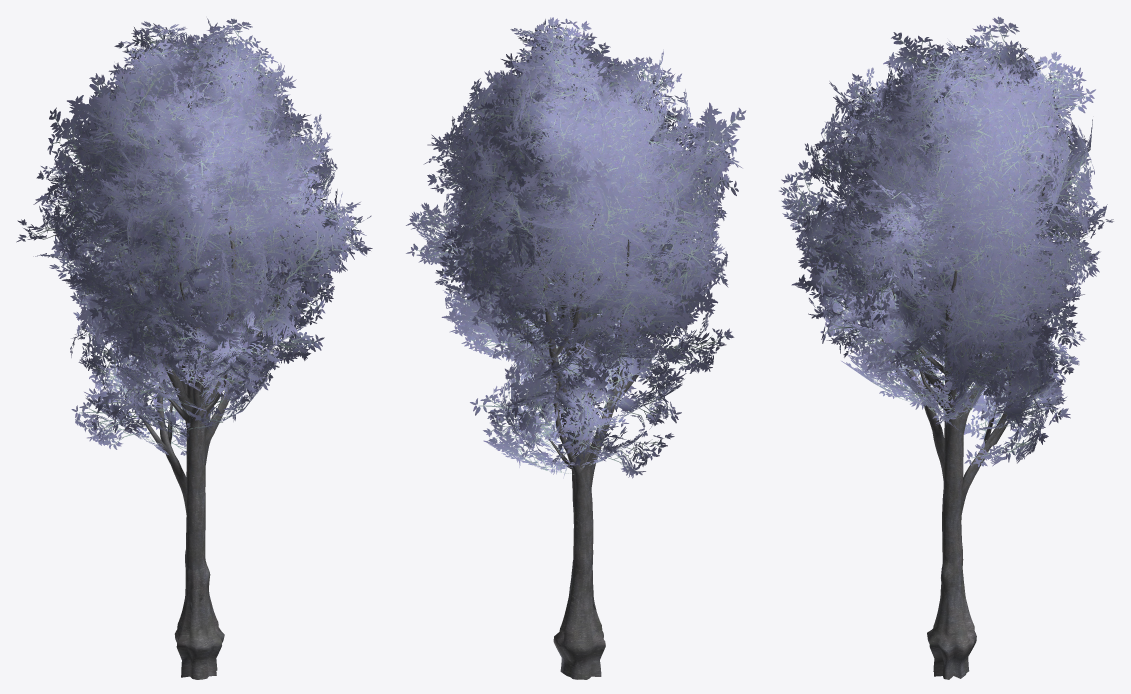
3 renders of one model, left to right at view 1: azimuth 30°, elevation 25°; view 2: azimuth 150°, elevation 25°; view 3: azimuth 270°, elevation 25°, orthographic.
Visible parts, largest first — view 1: SM_FH_Ash_Tree_01_LOD0; view 2: SM_FH_Ash_Tree_01_LOD0; view 3: SM_FH_Ash_Tree_01_LOD0.
Boxes of the visible parts, x1=… form: SM_FH_Ash_Tree_01_LOD0: x1=16, y1=18, x2=372, y2=679; SM_FH_Ash_Tree_01_LOD0: x1=406, y1=17, x2=746, y2=679; SM_FH_Ash_Tree_01_LOD0: x1=779, y1=16, x2=1113, y2=679.
Bounding box in the file's own units: 8.71 × 17.19 × 8.17.
2 materials, 2 textured.
